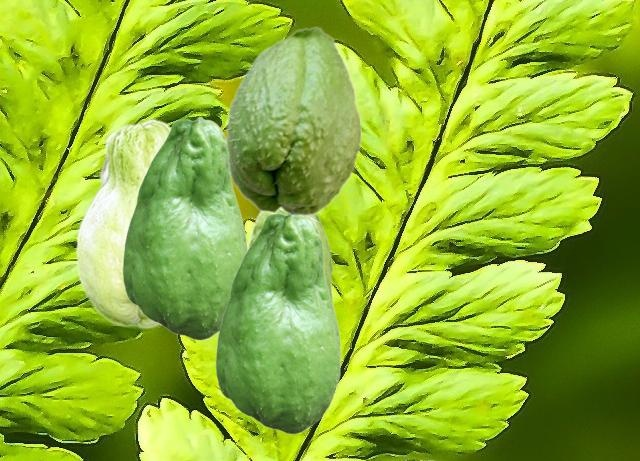sayote: (122, 116, 247, 339), (215, 212, 340, 433), (225, 25, 362, 216), (75, 118, 170, 328), (248, 211, 339, 326)
